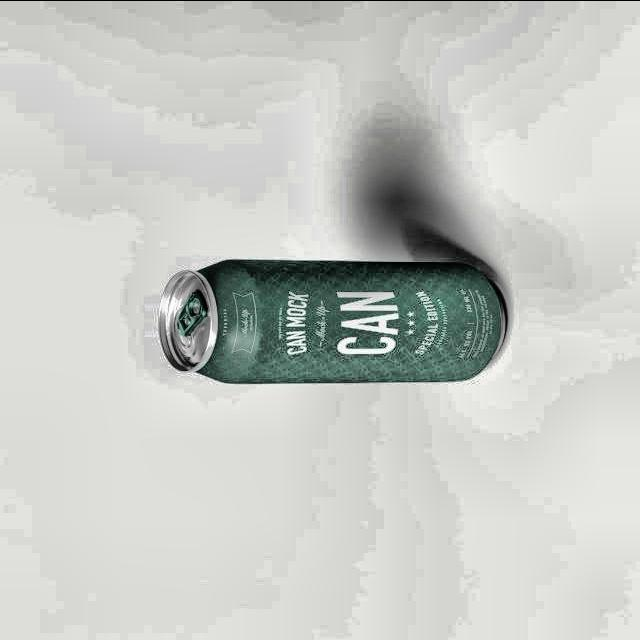Aluminum Can: (153, 249, 514, 384)
